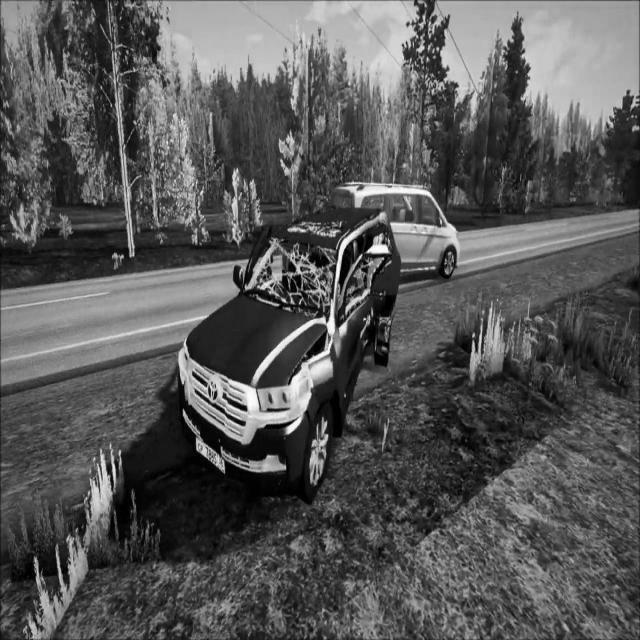accident: (173, 208, 404, 508)
vehicle: (327, 174, 462, 286)
